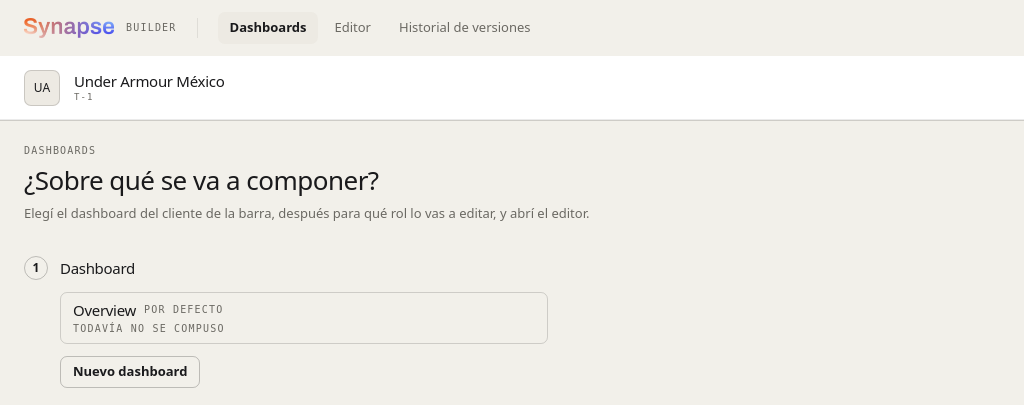
Scenario: las pantallas que todavía no se pueden construir · ninguna › B6 está CABLEADA · ni «Pendiente» ni «en construcción»
Click the button "Historial de versiones" at (465, 28), box x1=387 y1=12 x2=543 y2=44
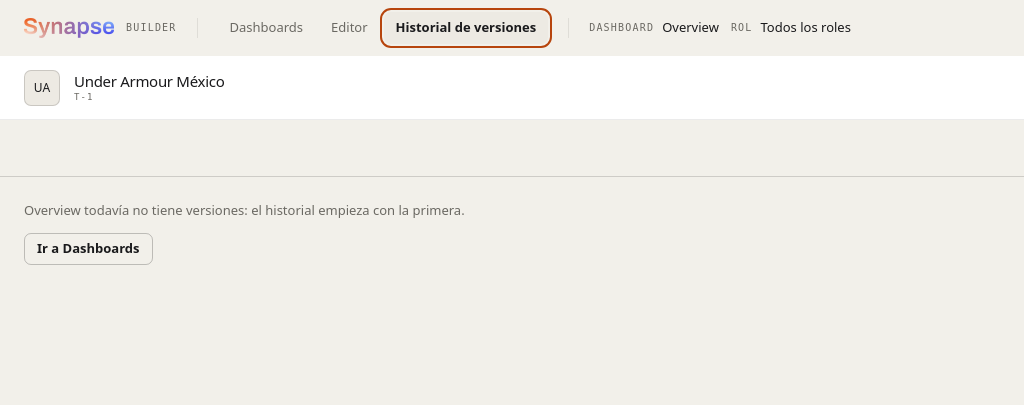
Check: the text "Overview todavía no tiene versiones: el historial empieza con la primera." is shown, box x1=24 y1=201 x2=465 y2=220
Click the button "Ir a Dashboards" at (88, 248), box x1=24 y1=232 x2=152 y2=264
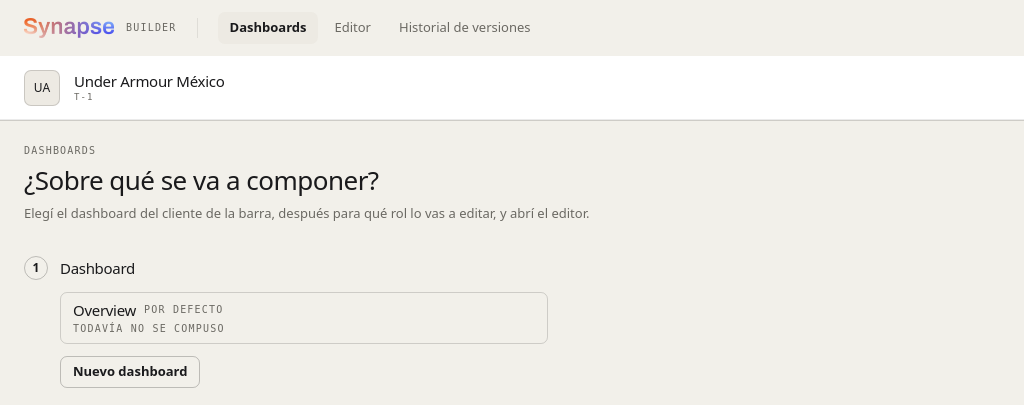
Check: the heading "¿Sobre qué se va a componer?" is shown, box x1=24 y1=162 x2=379 y2=198
